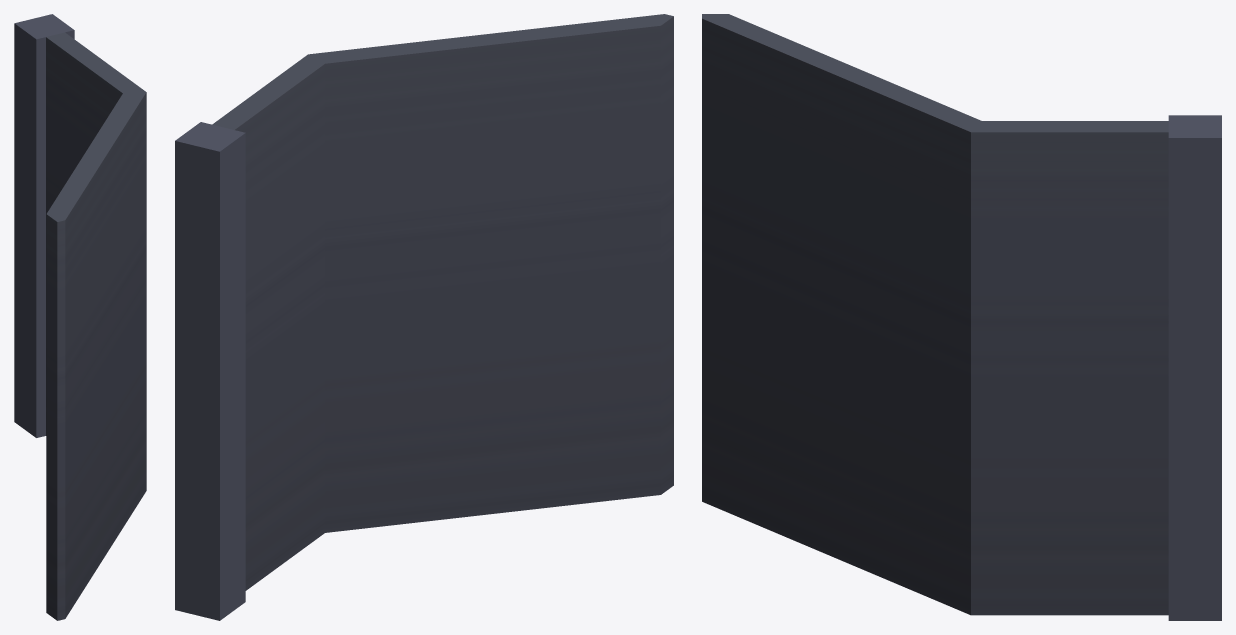
File: wall-corner-diagonal-half.glb
The picture shows the model from 3 angles, left to right: view 1: azimuth 30°, elevation 25°; view 2: azimuth 150°, elevation 25°; view 3: azimuth 270°, elevation 25°; orthographic projection. The views are drawn at different scales.
Visible parts, largest first — view 1: wall-corner-diagonal-half; view 2: wall-corner-diagonal-half; view 3: wall-corner-diagonal-half.
Part boxes in pixels (x1=…): wall-corner-diagonal-half: x1=14, y1=14, x2=146, y2=620; wall-corner-diagonal-half: x1=175, y1=14, x2=673, y2=620; wall-corner-diagonal-half: x1=702, y1=14, x2=1221, y2=620.
Size of the model in its own units: 0.55 by 1 by 0.975.
Materials: 1 (1 with a texture image).
